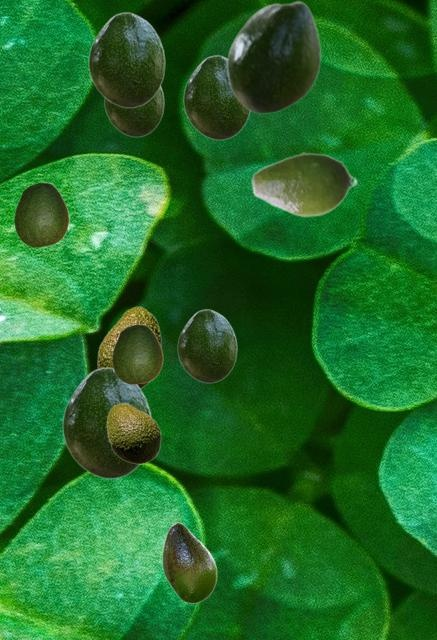avocado: (226, 0, 320, 113), (62, 367, 151, 478), (88, 12, 164, 107), (250, 151, 357, 217), (183, 55, 250, 139), (97, 306, 160, 388), (162, 522, 216, 602), (177, 309, 236, 382), (14, 182, 68, 246), (106, 403, 160, 463), (112, 324, 162, 383), (104, 87, 163, 136)
